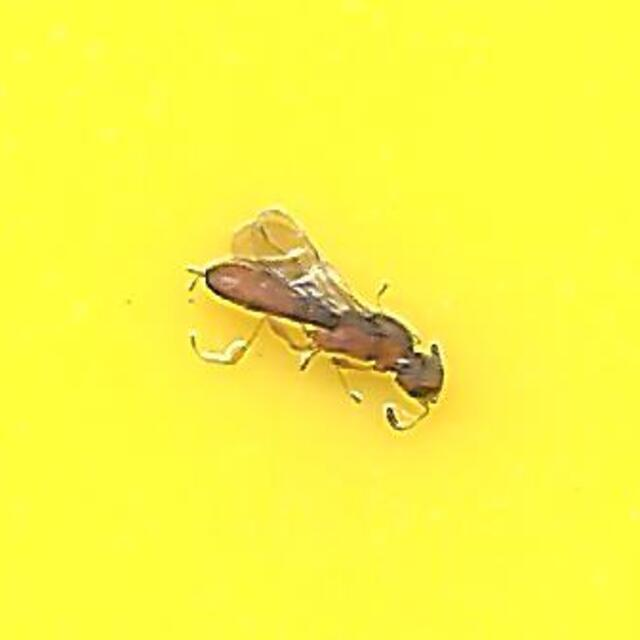Hymenoptera: (190, 204, 450, 436)
